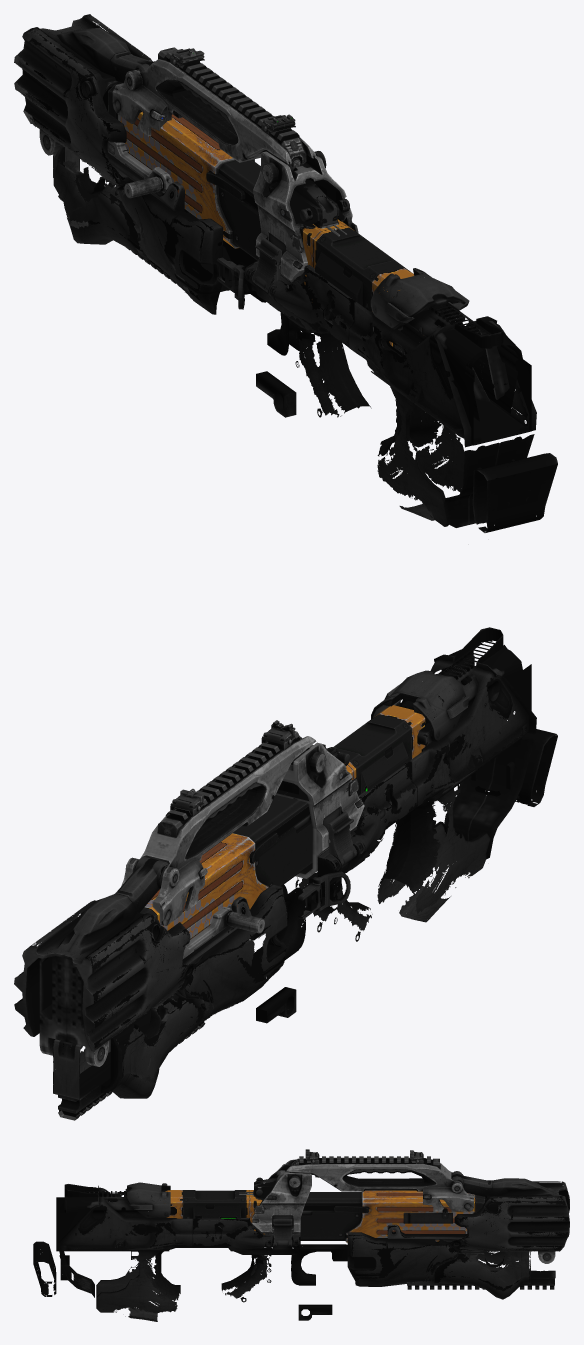
The model's file is gun.obj.
3 renders of one model, top to bottom at view 1: azimuth 30°, elevation 25°; view 2: azimuth 150°, elevation 25°; view 3: azimuth 270°, elevation 25°, orthographic. The views are drawn at different scales.
Visible parts, largest first — view 1: group Mesh_0223, group Mesh_0222, Mesh_0220 group, group Mesh_0221; view 2: group Mesh_0222, group Mesh_0223, Mesh_0220 group, group Mesh_0221; view 3: group Mesh_0223, group Mesh_0222, Mesh_0220 group, group Mesh_0221.
Part boxes in pixels (left/top/right/bottom): group Mesh_0223: left=53, top=146, right=531, bottom=526; group Mesh_0222: left=14, top=14, right=557, bottom=532; Mesh_0220 group: left=39, top=47, right=358, bottom=288; group Mesh_0221: left=108, top=83, right=423, bottom=355; group Mesh_0222: left=14, top=627, right=557, bottom=1113; group Mesh_0223: left=62, top=642, right=531, bottom=1098; Mesh_0220 group: left=39, top=720, right=364, bottom=1120; group Mesh_0221: left=140, top=705, right=425, bottom=939; group Mesh_0223: left=56, top=1187, right=530, bottom=1321; group Mesh_0222: left=33, top=1172, right=569, bottom=1297; Mesh_0220 group: left=252, top=1149, right=555, bottom=1289; group Mesh_0221: left=165, top=1190, right=484, bottom=1242.
Size of the model in its own units: 12.03 by 31.95 by 90.06.
Materials: 5 (5 with a texture image).
